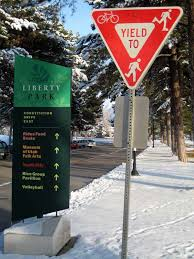yield_sign: (91, 6, 184, 89)
